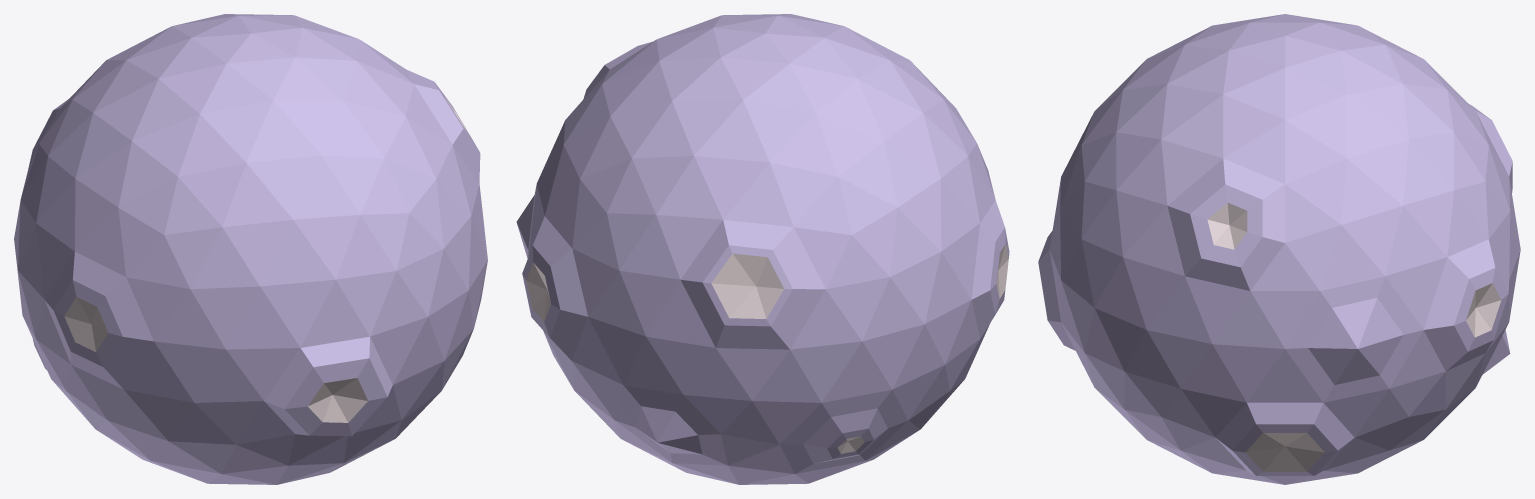
Rendered from Moon.fbx.
The picture shows the model from 3 angles, left to right: view 1: azimuth 30°, elevation 25°; view 2: azimuth 150°, elevation 25°; view 3: azimuth 270°, elevation 25°; orthographic projection.
Visible parts, largest first — view 1: Icosphere; view 2: Icosphere; view 3: Icosphere.
Part boxes in pixels (bbox=[...]): Icosphere: bbox=[14, 14, 487, 484]; Icosphere: bbox=[516, 14, 1009, 484]; Icosphere: bbox=[1038, 14, 1520, 484].
Bounding box in the file's own units: 205 × 200 × 205.
